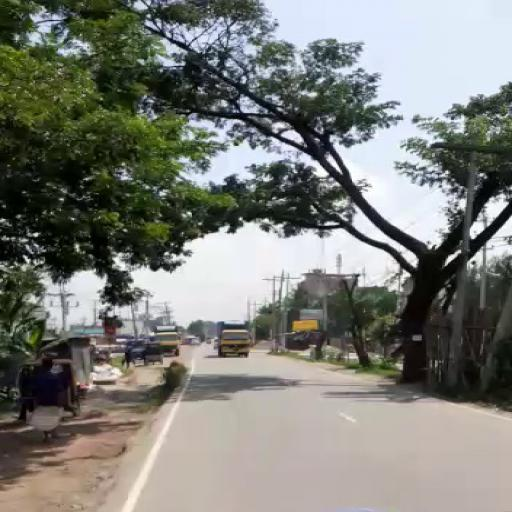truck: (215, 320, 248, 355), (156, 325, 182, 353)
